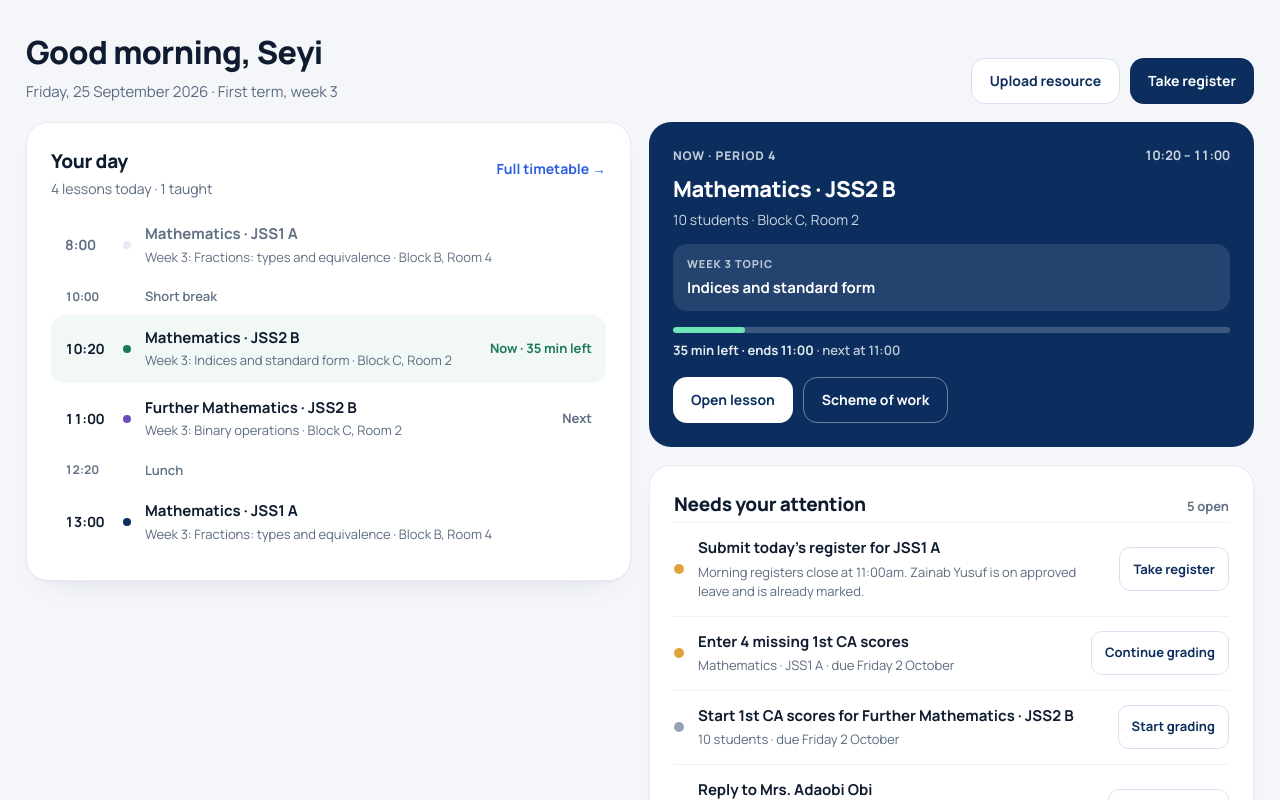
it: the lesson sheet › creates or reuses the class group for Message the class when the class has no group room
Step 1. Click the button with aria-label "Open lesson details" → (328, 245), box [51,211,606,279]
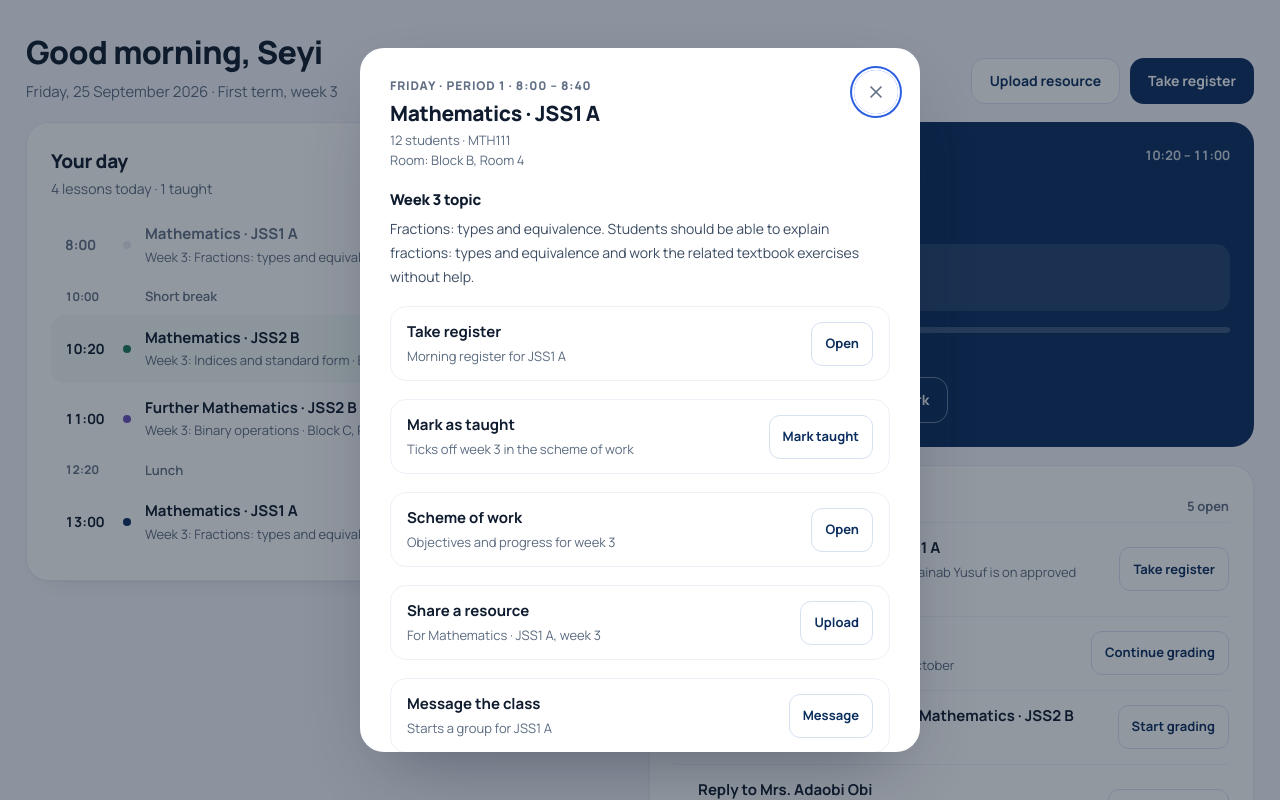
Result: the text "Starts a group for JSS1 A" is shown at [407,719,552,737]
Step 2. Click the button "Message" → (831, 716), box [789,694,873,738]
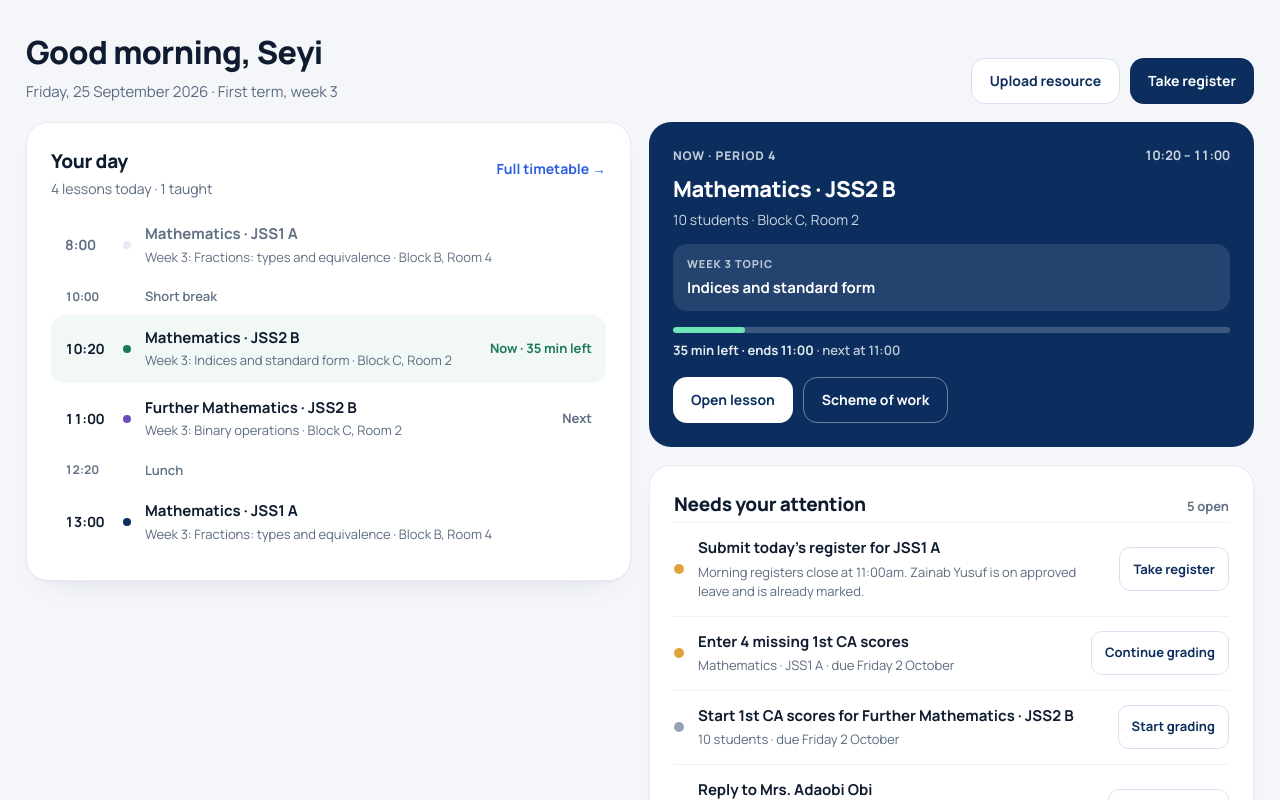
Result: the dialog is gone
